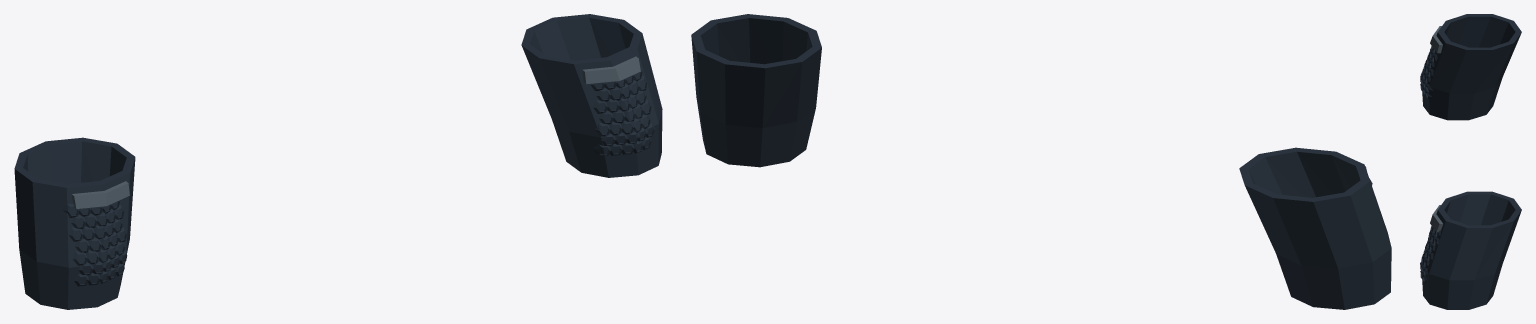
Rendered from ring_wrists-male.glb.
3 views of the same model, side by side, from view 1: azimuth 30°, elevation 25°; view 2: azimuth 150°, elevation 25°; view 3: azimuth 270°, elevation 25° (orthographic). The views are drawn at different scales.
Parts seen in each view (by area): view 1: ring wrist guard -1, ring wrist guard 1, ring woven coverage on ring wrist guard 1, ring woven coverage on ring wrist guard -1, Bracer rolled upper lip 1, Bracer rolled upper lip -1; view 2: ring wrist guard -1, ring wrist guard 1; view 3: ring wrist guard 1, ring wrist guard -1, ring woven coverage on ring wrist guard 1, ring woven coverage on ring wrist guard -1, Bracer rolled upper lip 1, Bracer rolled upper lip -1.
Part boxes in pixels (x1=…): ring wrist guard -1: x1=14, y1=137, x2=135, y2=309; ring wrist guard 1: x1=521, y1=14, x2=662, y2=177; ring woven coverage on ring wrist guard 1: x1=590, y1=68, x2=654, y2=156; ring woven coverage on ring wrist guard -1: x1=63, y1=200, x2=127, y2=286; Bracer rolled upper lip 1: x1=582, y1=56, x2=640, y2=84; Bracer rolled upper lip -1: x1=71, y1=181, x2=129, y2=208; ring wrist guard -1: x1=1239, y1=147, x2=1391, y2=309; ring wrist guard 1: x1=691, y1=14, x2=821, y2=167; ring wrist guard 1: x1=1422, y1=191, x2=1521, y2=309; ring wrist guard -1: x1=1422, y1=14, x2=1521, y2=120; ring woven coverage on ring wrist guard 1: x1=1420, y1=226, x2=1441, y2=283; ring woven coverage on ring wrist guard -1: x1=1420, y1=46, x2=1437, y2=99; Bracer rolled upper lip 1: x1=1430, y1=205, x2=1443, y2=232; Bracer rolled upper lip -1: x1=1430, y1=26, x2=1442, y2=53.
Bounding box in the file's own units: 3.7 × 0.63 × 0.7267.
